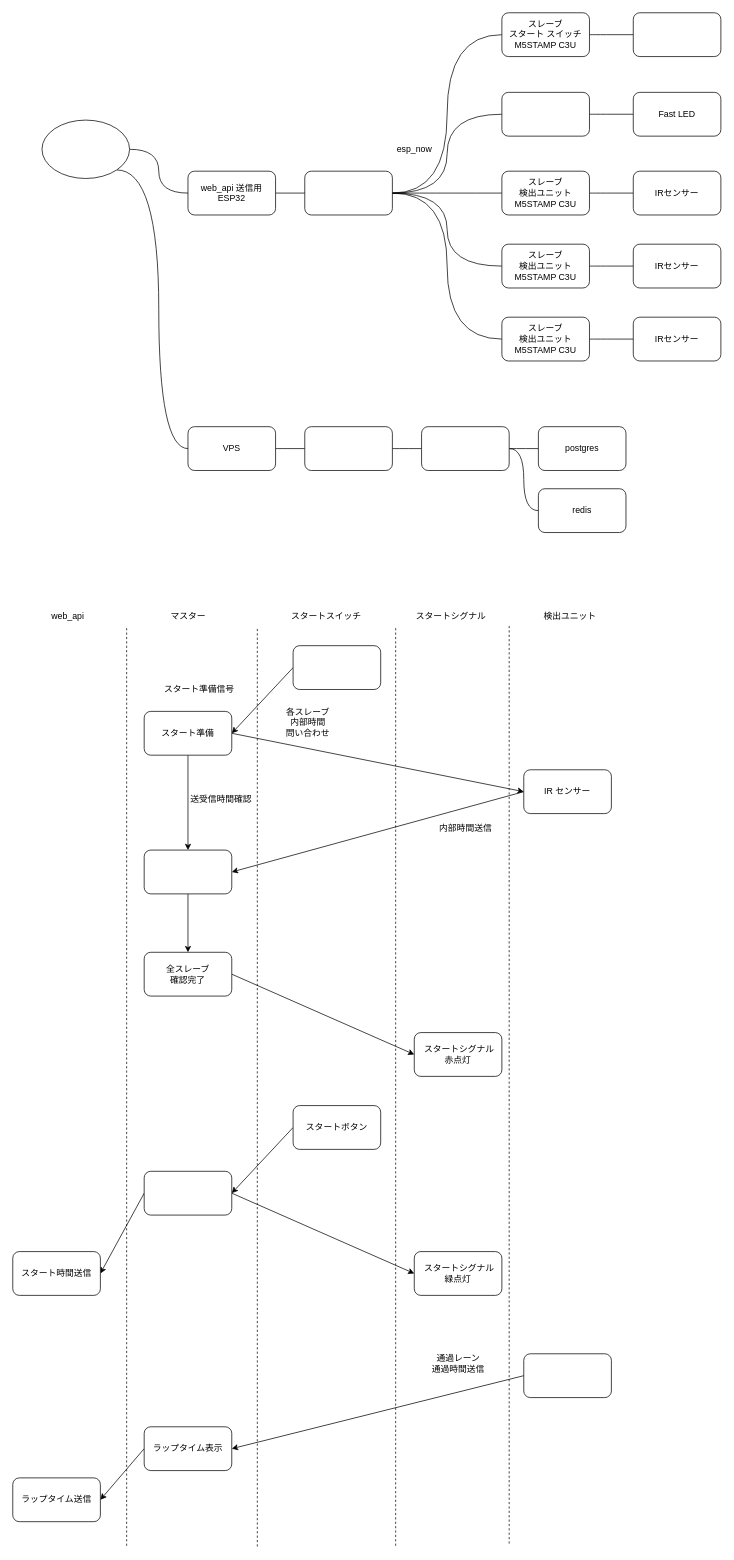
This 734x1560 diagram has some shape labels left out. Each missing label, with the box of its shape:
django: (421, 426, 509, 470)
https-portal: (304, 426, 392, 470)
www: (41, 119, 130, 178)
スイッチ: (633, 12, 721, 57)
スタート処理: (143, 1171, 232, 1215)
スタート準備ボタン: (292, 645, 381, 689)
スレーブ スタートシグナル M5STAMP C3U: (501, 92, 589, 136)
マスター M5core2: (304, 170, 392, 215)
信号到達確認: (143, 849, 232, 894)
車両通過: (523, 1353, 611, 1398)
